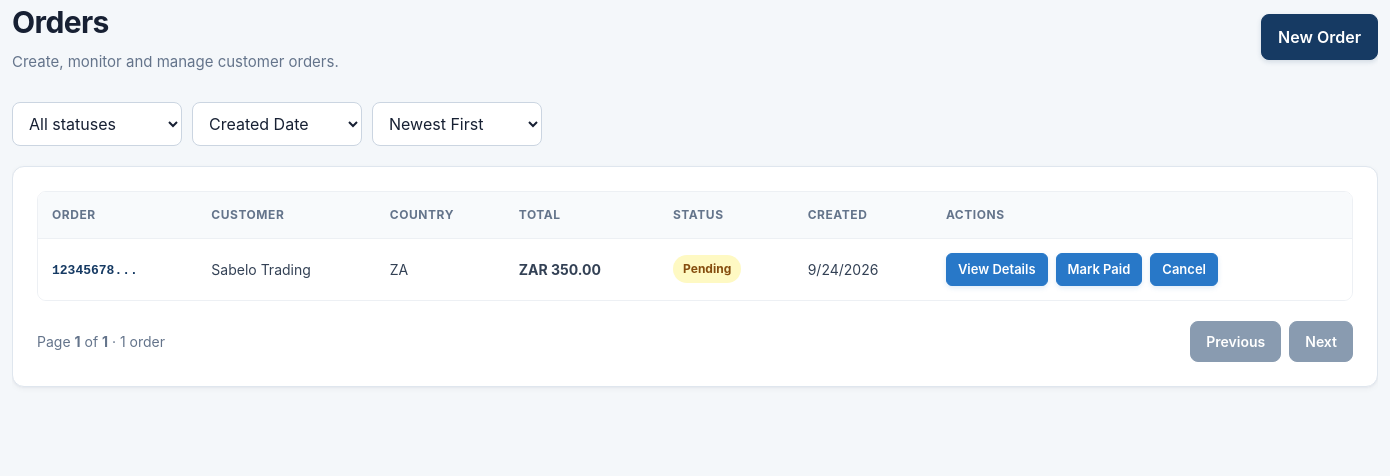
Test: OrdersPage › allows a pending order to be marked as paid
Check: the text "12345678..." is shown, box [52, 263, 138, 278]
What coordinates should you click on to do the following:
click the button "Mark Paid"
I would click on:
 (1099, 269)
Its box is [1056, 252, 1142, 286].
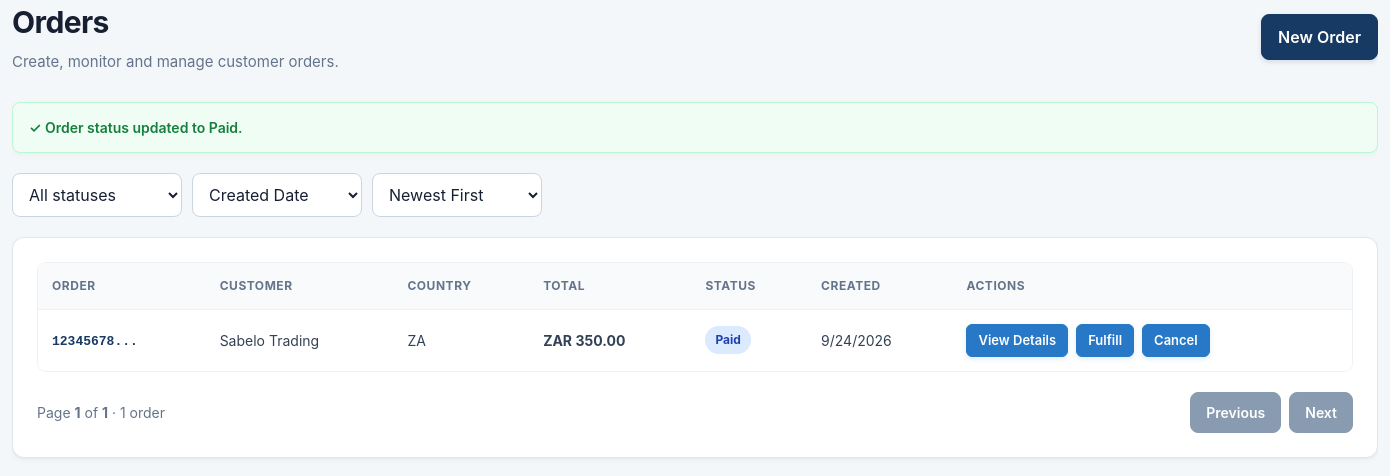
Check: the text "✓ Order status updated to Paid." is shown, box [12, 102, 1378, 152]
